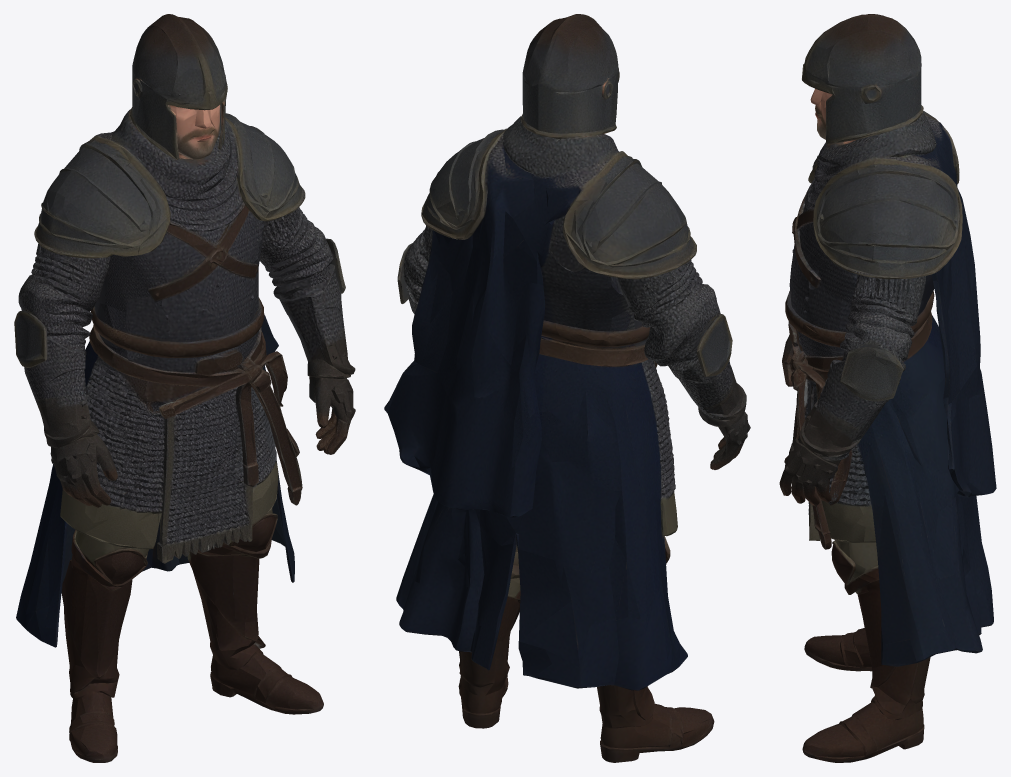
The model's file is chainmail.glb.
3 views of the same model, side by side, from view 1: azimuth 30°, elevation 25°; view 2: azimuth 150°, elevation 25°; view 3: azimuth 270°, elevation 25° (orthographic). The views are drawn at different scales.
Size of the model in its own units: 0.8882 by 1.9 by 0.5384.
1 material, 1 textured.
